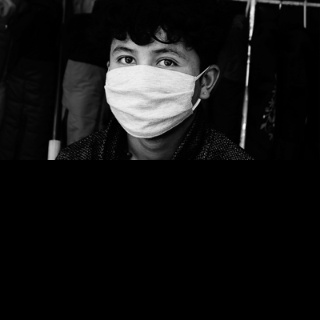with_mask: (104, 44, 200, 140)
